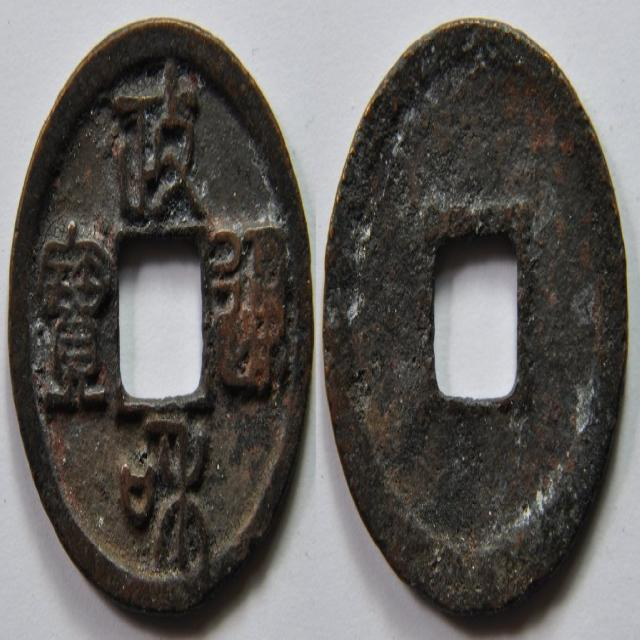Coin: (322, 17, 632, 618), (7, 17, 314, 617)
